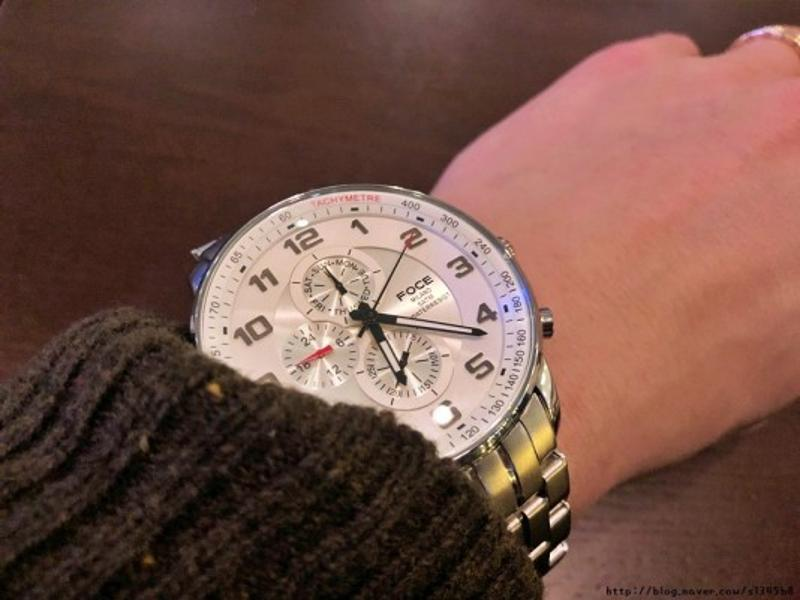watch: (180, 177, 582, 580)
